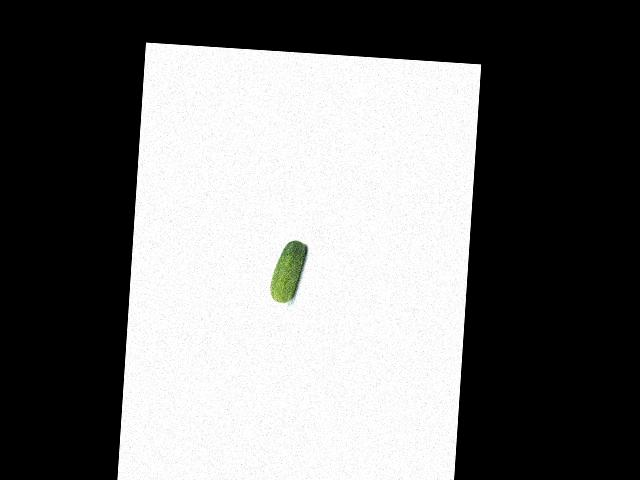cucumber: (269, 239, 307, 304)
